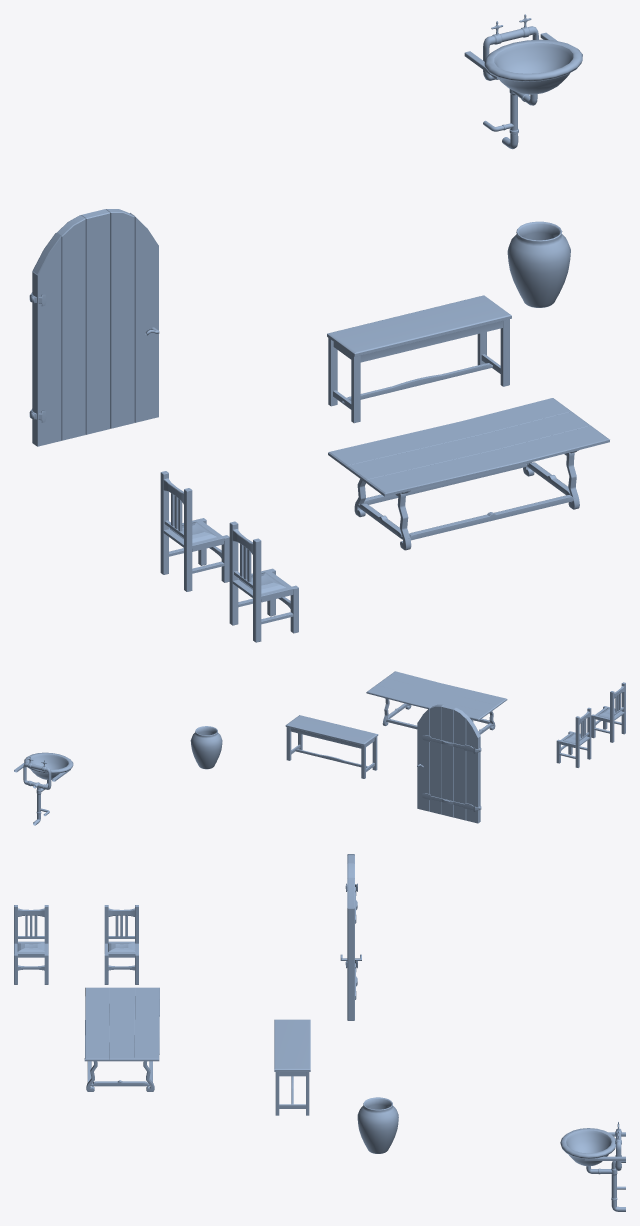
File: SM_dining_room.fbx
3 renders of one model, top to bottom at view 1: azimuth 30°, elevation 25°; view 2: azimuth 150°, elevation 25°; view 3: azimuth 270°, elevation 25°, orthographic. The views are drawn at different scales.
Parts seen in each view (by area): view 1: polySurface1 (×2), Dining_table_v01:Dining_table_v01:polySurface146, pCylinder54, Fireplace:polySurface15, pCube524, pCube66; view 2: Dining_table_v01:Dining_table_v01:polySurface146, polySurface1 (×2), pCylinder54, pCube66, pCube524, Fireplace:polySurface15; view 3: polySurface1 (×2), pCylinder54, Fireplace:polySurface15, pCube66, pCube524, Dining_table_v01:Dining_table_v01:polySurface146.
Boxes of the visible parts, left/top/right/bottom form: polySurface1 (×2): left=327, top=295, right=609, bottom=550; Dining_table_v01:Dining_table_v01:polySurface146: left=29, top=209, right=159, bottom=446; pCylinder54: left=464, top=14, right=582, bottom=149; Fireplace:polySurface15: left=507, top=221, right=570, bottom=307; pCube524: left=229, top=521, right=298, bottom=642; pCube66: left=160, top=471, right=229, bottom=591; Dining_table_v01:Dining_table_v01:polySurface146: left=417, top=704, right=481, bottom=823; polySurface1 (×2): left=285, top=671, right=507, bottom=778; pCylinder54: left=14, top=752, right=73, bottom=825; pCube66: left=556, top=707, right=591, bottom=767; pCube524: left=591, top=682, right=625, bottom=742; Fireplace:polySurface15: left=190, top=726, right=222, bottom=769; polySurface1 (×2): left=84, top=987, right=310, bottom=1115; pCylinder54: left=560, top=1122, right=625, bottom=1211; Fireplace:polySurface15: left=357, top=1097, right=398, bottom=1153; pCube66: left=104, top=905, right=138, bottom=984; pCube524: left=14, top=905, right=48, bottom=984; Dining_table_v01:Dining_table_v01:polySurface146: left=340, top=854, right=361, bottom=1020.
Size of the model in its own units: 945 by 279 by 1004.
